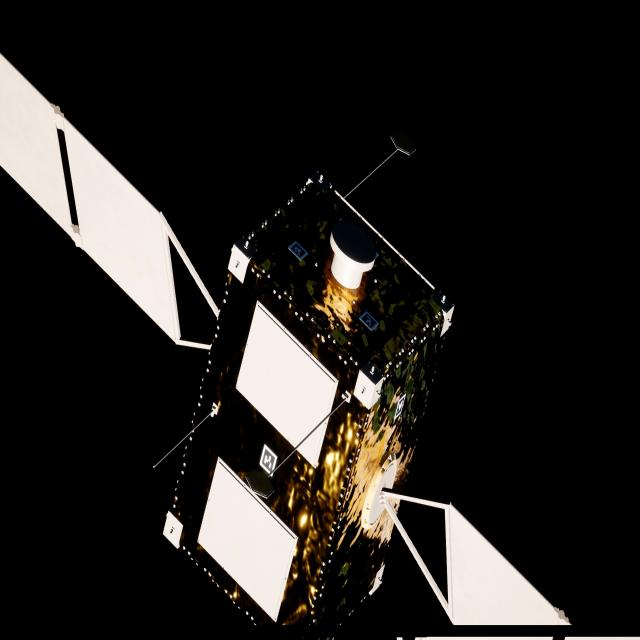medium_debris: (0, 52, 572, 640)
